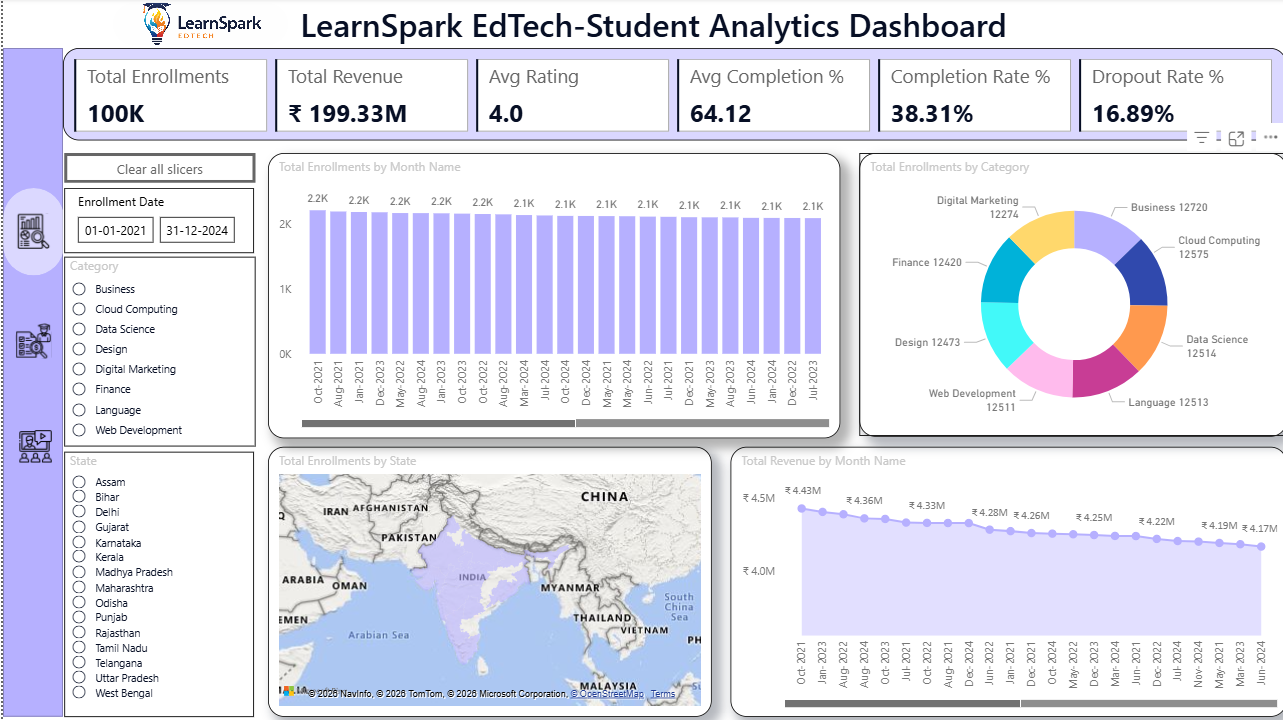

This screenshot's page, from the dashboard's own definition file:
{"tool":"powerbi","page":{"name":"Overview","canvas":[1280,720],"ordinal":0},"visuals":[{"type":"cardVisual","fields":{"Data":["All Measures.Total Enrollments","All Measures.Total Revenue","All Measures.Avg Rating","All Measures.Avg Completion %","All Measures.Completion Rate %","All Measures.Dropout Rate %"]},"box":[60,49.8,1217.8,92.1],"z":0},{"type":"clusteredColumnChart","fields":{"Category":["Enrollments.Month Name"],"Y":["All Measures.Total Enrollments"]},"box":[264,154.3,569.7,283.6],"z":1000},{"type":"donutChart","fields":{"Y":["All Measures.Total Enrollments"],"Category":["Courses.Category"]},"box":[852.4,154.3,425.4,282.4],"z":2000},{"type":"filledMap","fields":{"Category":["Students.State"]},"box":[264,446.6,441.6,268.7],"z":3000},{"type":"areaChart","fields":{"Category":["Enrollments.Month Name"],"Y":["All Measures.Total Revenue"]},"box":[724.2,446.6,553.6,268.7],"z":4000},{"type":"textbox","box":[28.9,0,1237.7,58.5],"z":5000},{"type":"listSlicer","fields":{"Values":["Courses.Category"]},"box":[61.2,257.5,190.3,189.1],"z":6000},{"type":"listSlicer","fields":{"Values":["Students.State"]},"box":[61.2,451.6,189.1,263.7],"z":7000},{"type":"slicer","fields":{"Values":["Enrollments.Enrollment Date"]},"box":[61.2,189.1,189.1,64.7],"z":8000},{"type":"actionButton","box":[61.2,154.3,190.3,29.9],"z":9000},{"type":"shape","box":[0,49.8,59.7,665.5],"z":10000},{"type":"actionButton","box":[0,311,62.2,61],"z":11000},{"type":"actionButton","box":[2.2,414.9,59.7,61],"z":12000},{"type":"actionButton","box":[0,189.1,61,87.1],"z":13000},{"type":"image","box":[104.5,0,184.1,52.2],"z":14000}]}

Visuals, with their boxes in screenshot pixels (x1, y1, x2, y2), scaled from the page's 1280x720 canvas onto the 1283x720 screenshot:
cardVisual - All Measures.Total Enrollments x All Measures.Total Revenue: select_region(60, 50, 1281, 142)
clusteredColumnChart - Enrollments.Month Name x All Measures.Total Enrollments: select_region(265, 154, 836, 438)
donutChart - All Measures.Total Enrollments x Courses.Category: select_region(854, 154, 1281, 437)
filledMap - Students.State: select_region(265, 447, 707, 715)
areaChart - Enrollments.Month Name x All Measures.Total Revenue: select_region(726, 447, 1281, 715)
textbox: select_region(29, 0, 1270, 58)
listSlicer - Courses.Category: select_region(61, 258, 252, 447)
listSlicer - Students.State: select_region(61, 452, 251, 715)
slicer - Enrollments.Enrollment Date: select_region(61, 189, 251, 254)
actionButton: select_region(61, 154, 252, 184)
shape: select_region(0, 50, 60, 715)
actionButton: select_region(0, 311, 62, 372)
actionButton: select_region(2, 415, 62, 476)
actionButton: select_region(0, 189, 61, 276)
image: select_region(105, 0, 289, 52)
